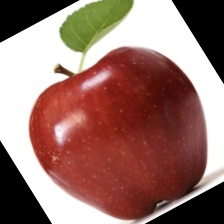apple: (28, 17, 170, 195)
